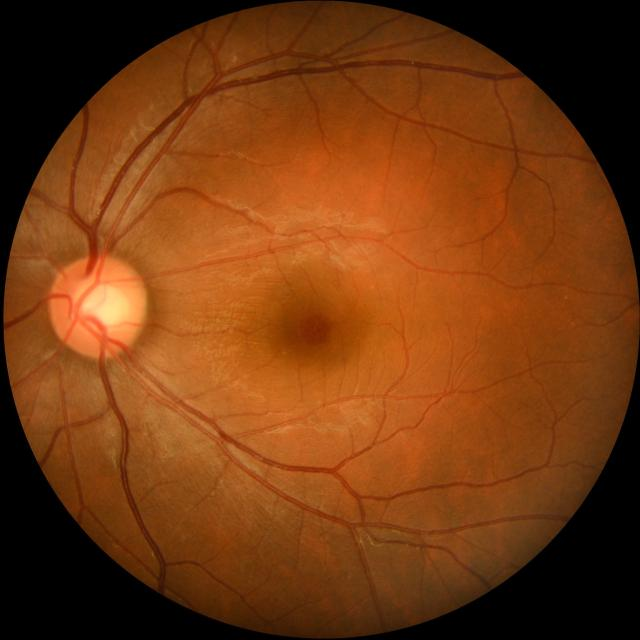OC: (72, 277, 126, 330)
OD: (47, 253, 145, 356)
